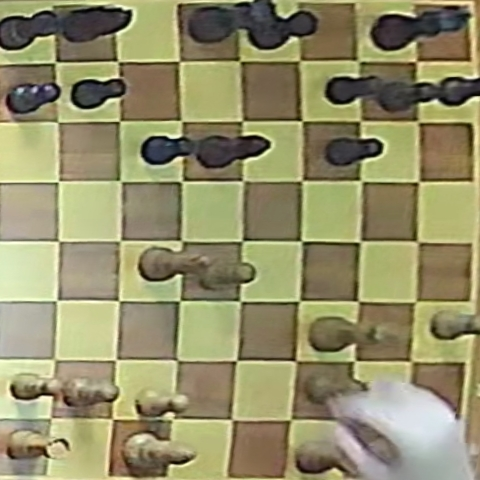black-bishop: (192, 134, 268, 168)
black-king: (373, 6, 472, 52)
black-knight: (60, 5, 132, 44)
black-pawn: (327, 74, 390, 106), (325, 137, 384, 167), (376, 79, 429, 112), (6, 82, 60, 114), (142, 135, 197, 166), (72, 78, 126, 109), (437, 75, 480, 106)
black-queen: (186, 0, 279, 44)
black-rook: (247, 9, 319, 51), (0, 10, 61, 50)
white-bishop: (122, 430, 196, 476), (139, 246, 212, 282)
white-pawn: (303, 370, 364, 404), (60, 376, 120, 408), (200, 259, 254, 290), (135, 388, 190, 417), (11, 373, 62, 401), (431, 311, 478, 340)
white-queen: (310, 317, 403, 351)
white-rook: (296, 438, 362, 476), (7, 430, 70, 460)
